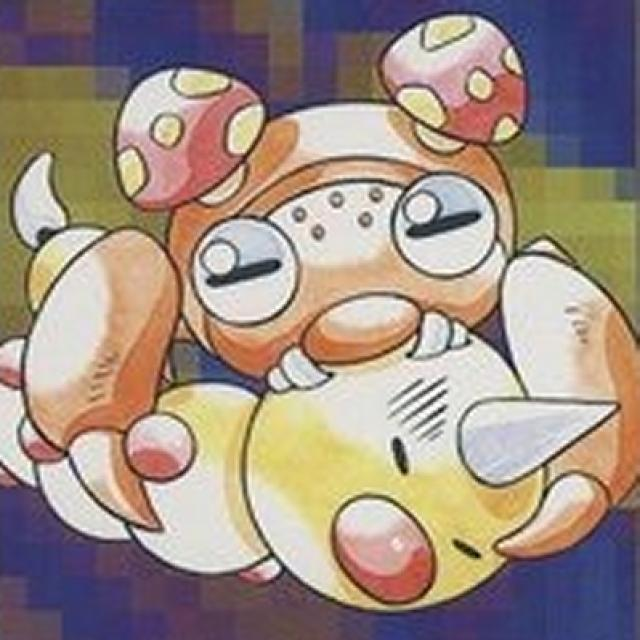Paras: (86, 17, 596, 359)
Weedle: (3, 361, 619, 615)
